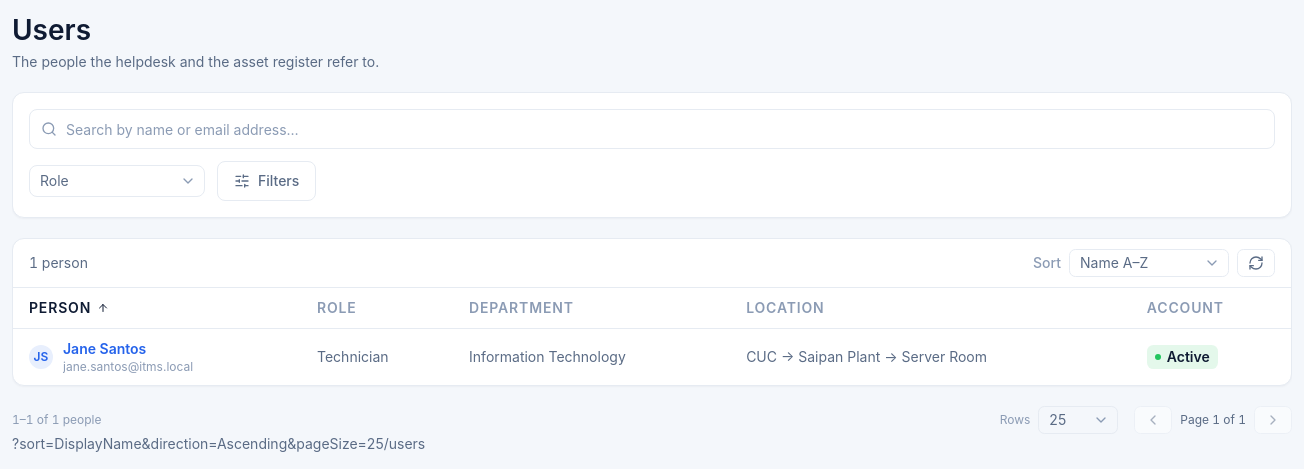
Test: UsersPage › puts a role filter into the address rather than filtering in the browser
Expected: the button "Jane Santos" is shown, [63,338,146,358]
Click the dropdown labelled "Role" at (117, 181), box [29,165,205,197]
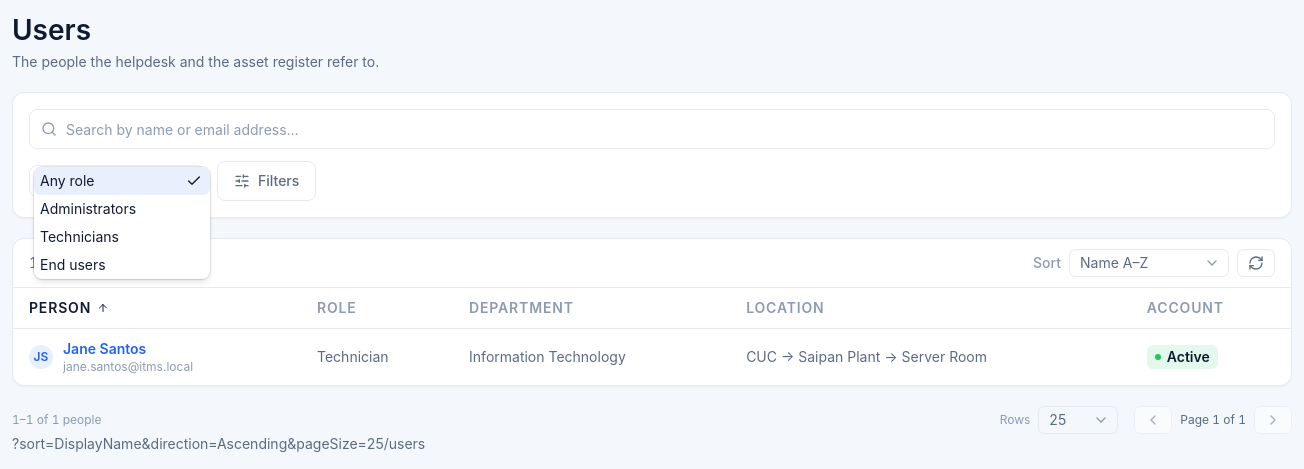
Click the option "Technicians" at (80, 236), box [40,228,119,245]
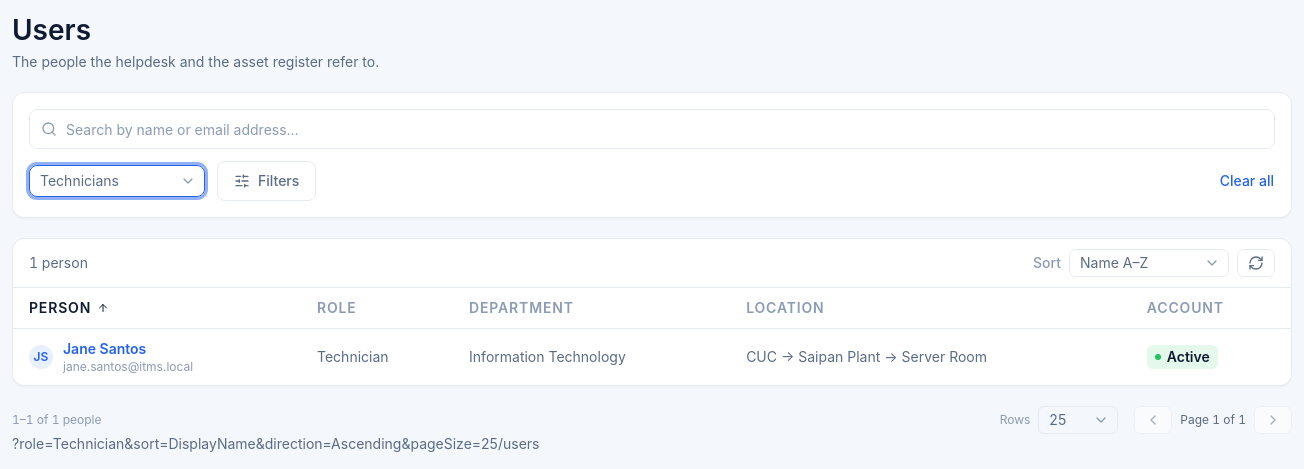
Now the text with test id "address" shows "role=Technician", box [12,434,498,452]
